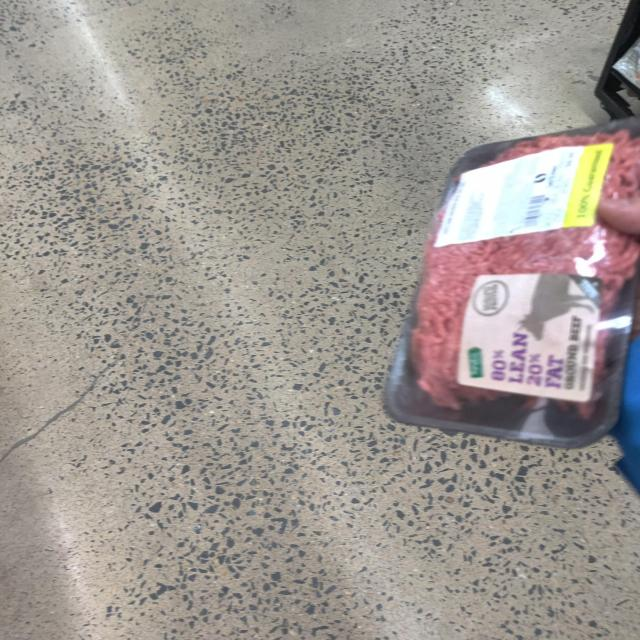Meat: (378, 115, 640, 474)
